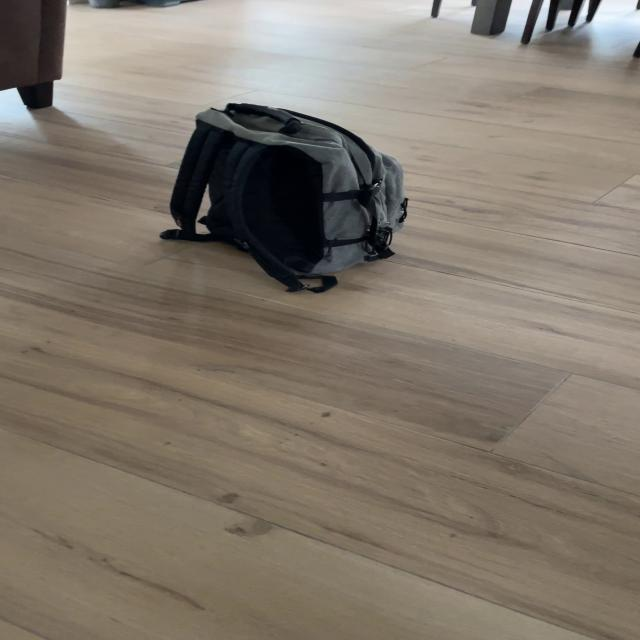backpack: (161, 94, 424, 288)
